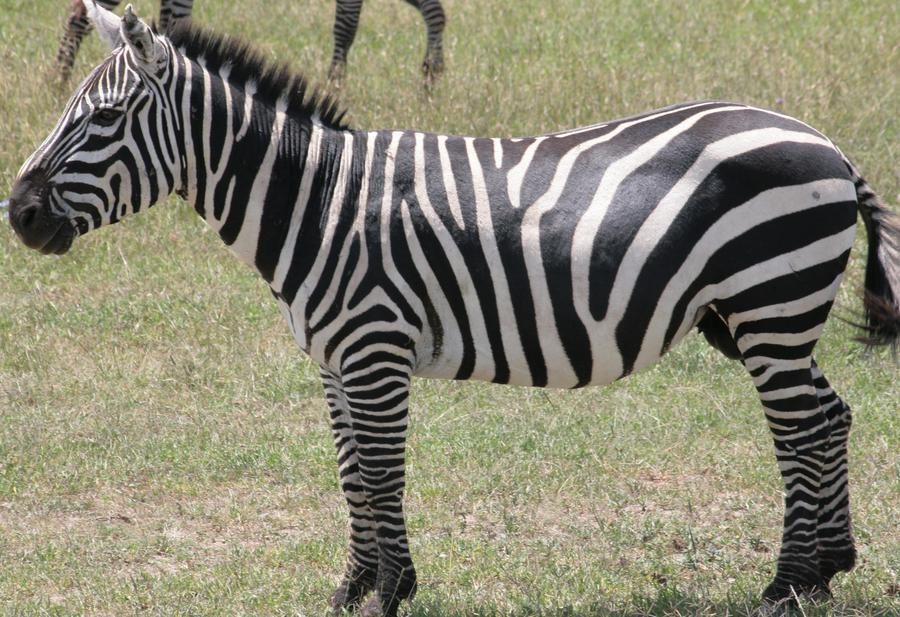zebra_plains: (284, 115, 858, 336)
